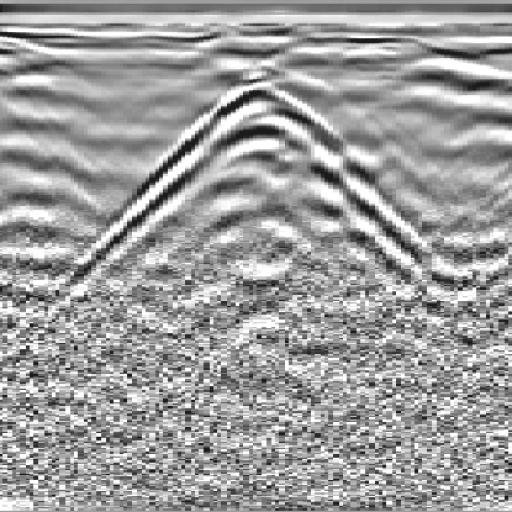metalic: (61, 44, 415, 329)
